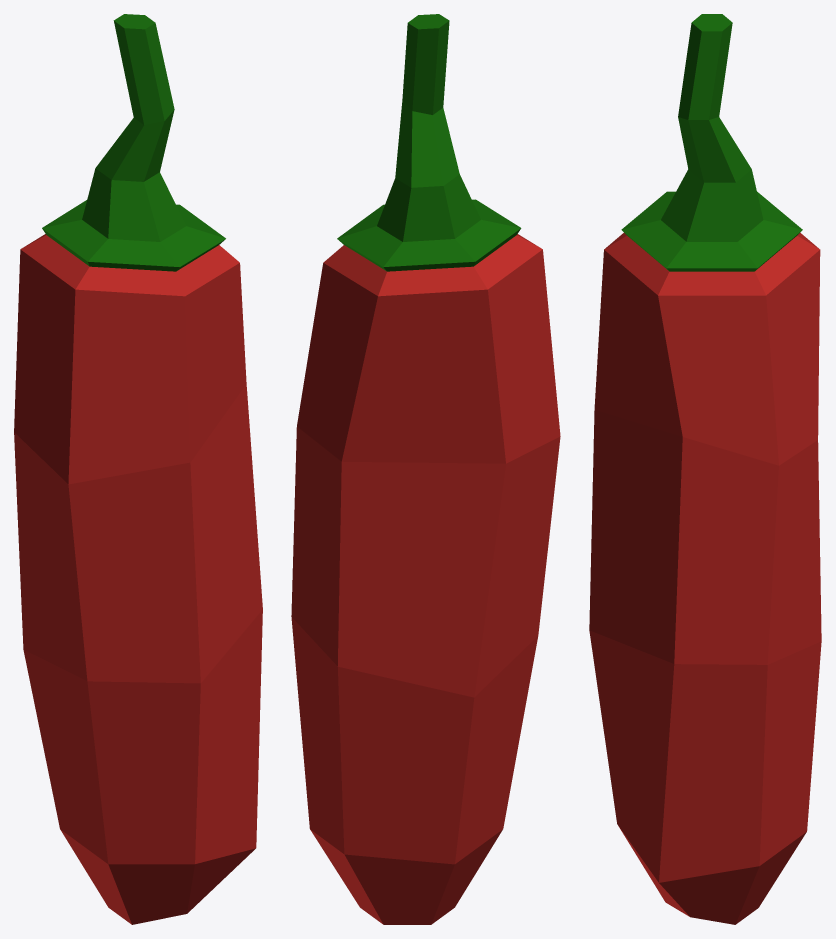
The model's file is Jalapeno Pepper.fbx.
3 views of the same model, side by side, from view 1: azimuth 30°, elevation 25°; view 2: azimuth 150°, elevation 25°; view 3: azimuth 270°, elevation 25° (orthographic).
Parts seen in each view (by area): view 1: Jalapeno Pepper; view 2: Jalapeno Pepper; view 3: Jalapeno Pepper.
Boxes of the visible parts, left/top/right/bottom form: Jalapeno Pepper: left=14, top=14, right=262, bottom=924; Jalapeno Pepper: left=291, top=14, right=560, bottom=924; Jalapeno Pepper: left=589, top=14, right=821, bottom=924.
Bounding box in the file's own units: 6.5 × 26.61 × 6.39.
